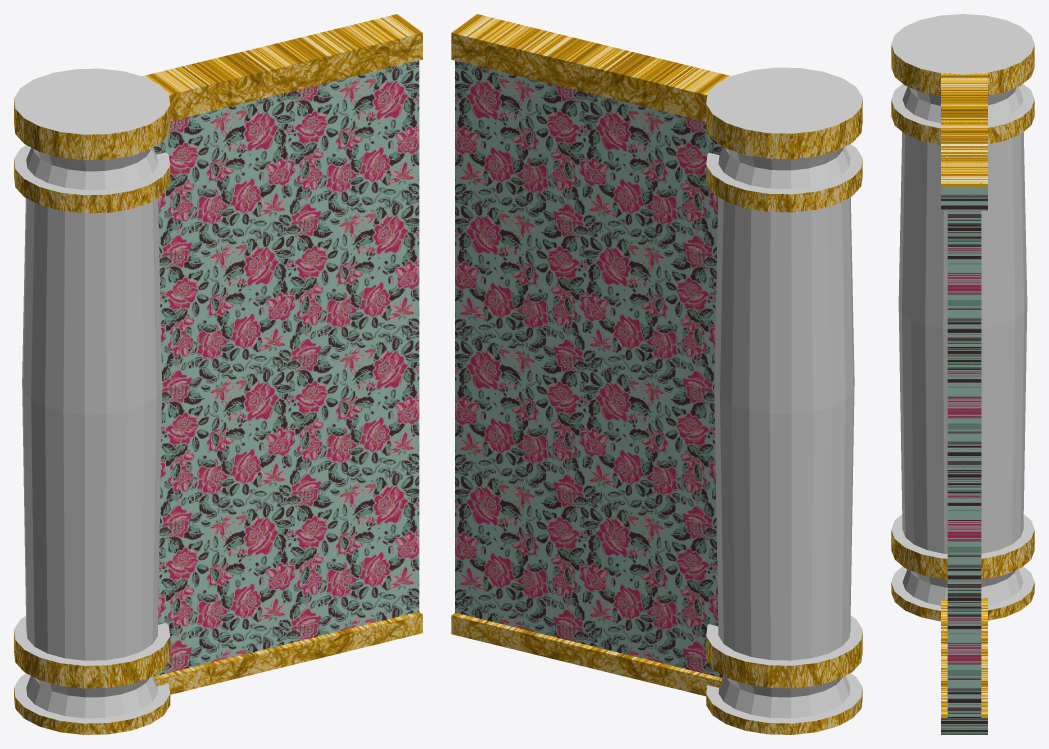
File: L_wall.fbx
3 views of the same model, side by side, from view 1: azimuth 30°, elevation 25°; view 2: azimuth 150°, elevation 25°; view 3: azimuth 270°, elevation 25° (orthographic). The views are drawn at different scales.
Visible parts, largest first — view 1: pCube4; view 2: pCube4; view 3: pCube4.
Part boxes in pixels (bbox=[...]): pCube4: bbox=[14, 14, 422, 734]; pCube4: bbox=[451, 14, 862, 734]; pCube4: bbox=[891, 14, 1034, 734].
Bounding box in the file's own units: 121 × 180 × 42.68.
5 materials, 3 textured.
